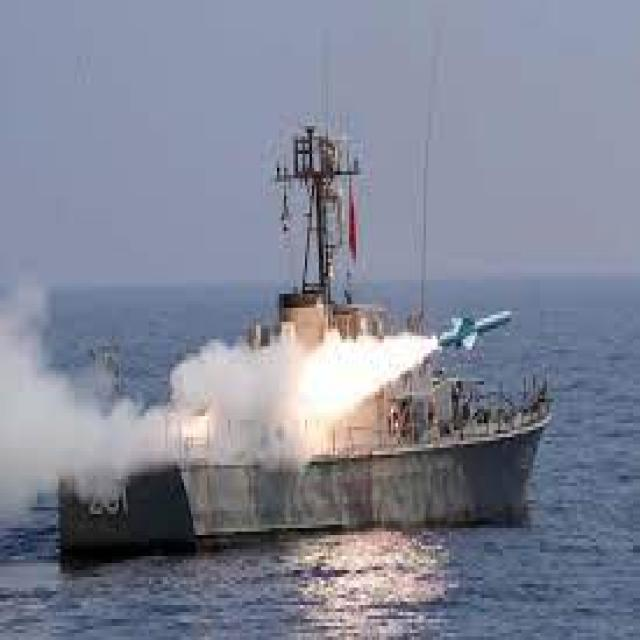navalvessels: (42, 119, 550, 530)
